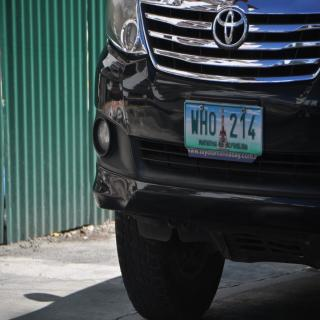license: (185, 102, 264, 164)
